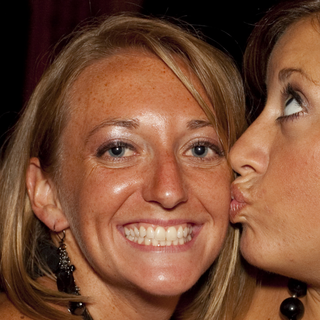eye: (272, 84, 310, 124), (91, 139, 143, 164), (177, 138, 225, 164)
